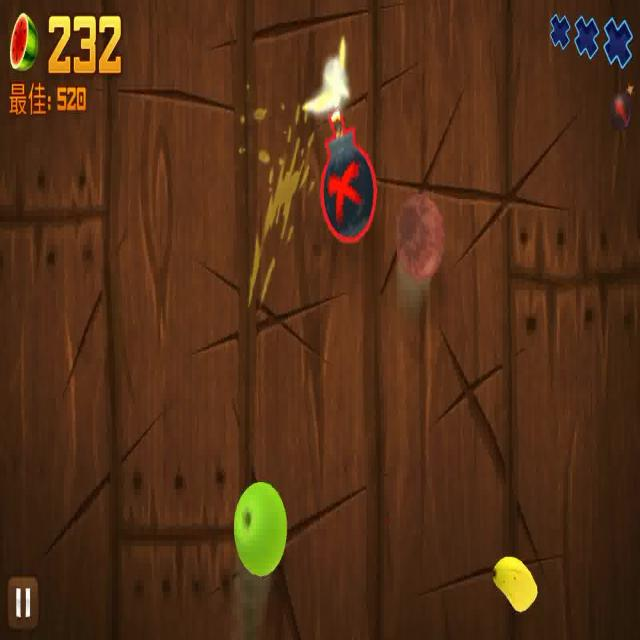bomb: (304, 49, 384, 245)
fruit: (227, 481, 289, 577), (397, 170, 447, 282), (489, 554, 543, 621)
